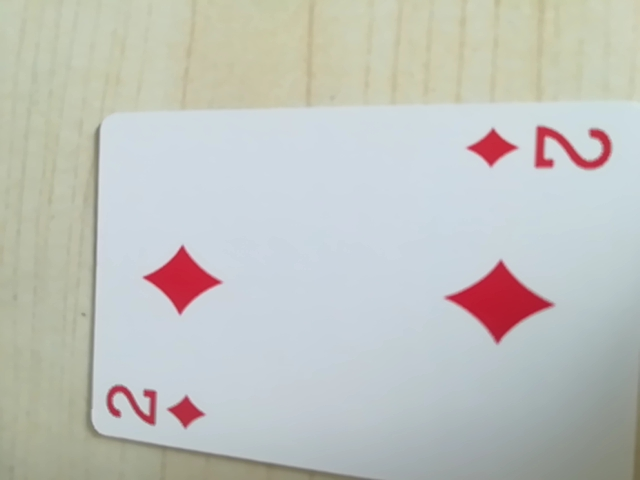fk 2: (461, 116, 621, 183), (101, 373, 218, 439)
